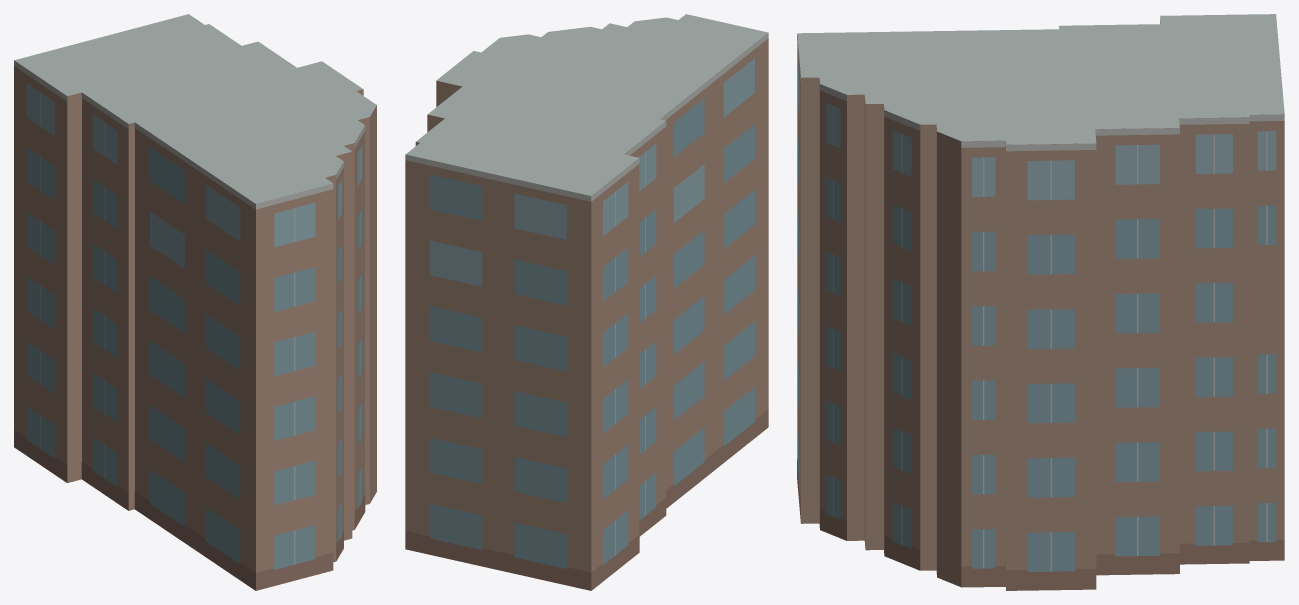
File: survey-upis-32987468.glb
3 views of the same model, side by side, from view 1: azimuth 30°, elevation 25°; view 2: azimuth 150°, elevation 25°; view 3: azimuth 270°, elevation 25° (orthographic). The views are drawn at different scales.
Parts seen in each view (by area): view 1: survey-upis-32987468.tmp; view 2: survey-upis-32987468.tmp; view 3: survey-upis-32987468.tmp.
Part boxes in pixels (x1,y1,x2,y2): survey-upis-32987468.tmp: (14,14,376,590); survey-upis-32987468.tmp: (405,14,768,590); survey-upis-32987468.tmp: (797,14,1284,590).
Bounding box in the file's own units: 10.57 × 16.8 × 16.65.
